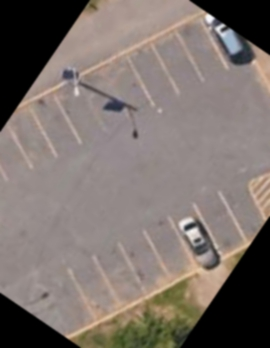parkingspot: (0, 9, 260, 195), (61, 170, 269, 328)
